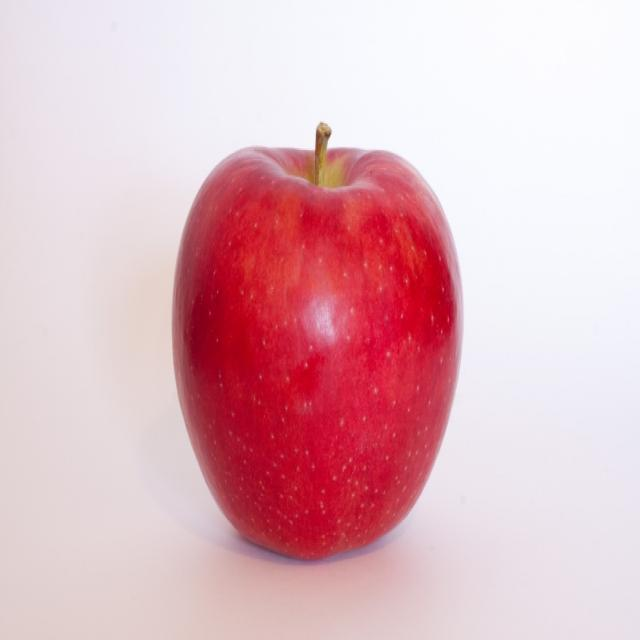Apple: (167, 116, 467, 569)
